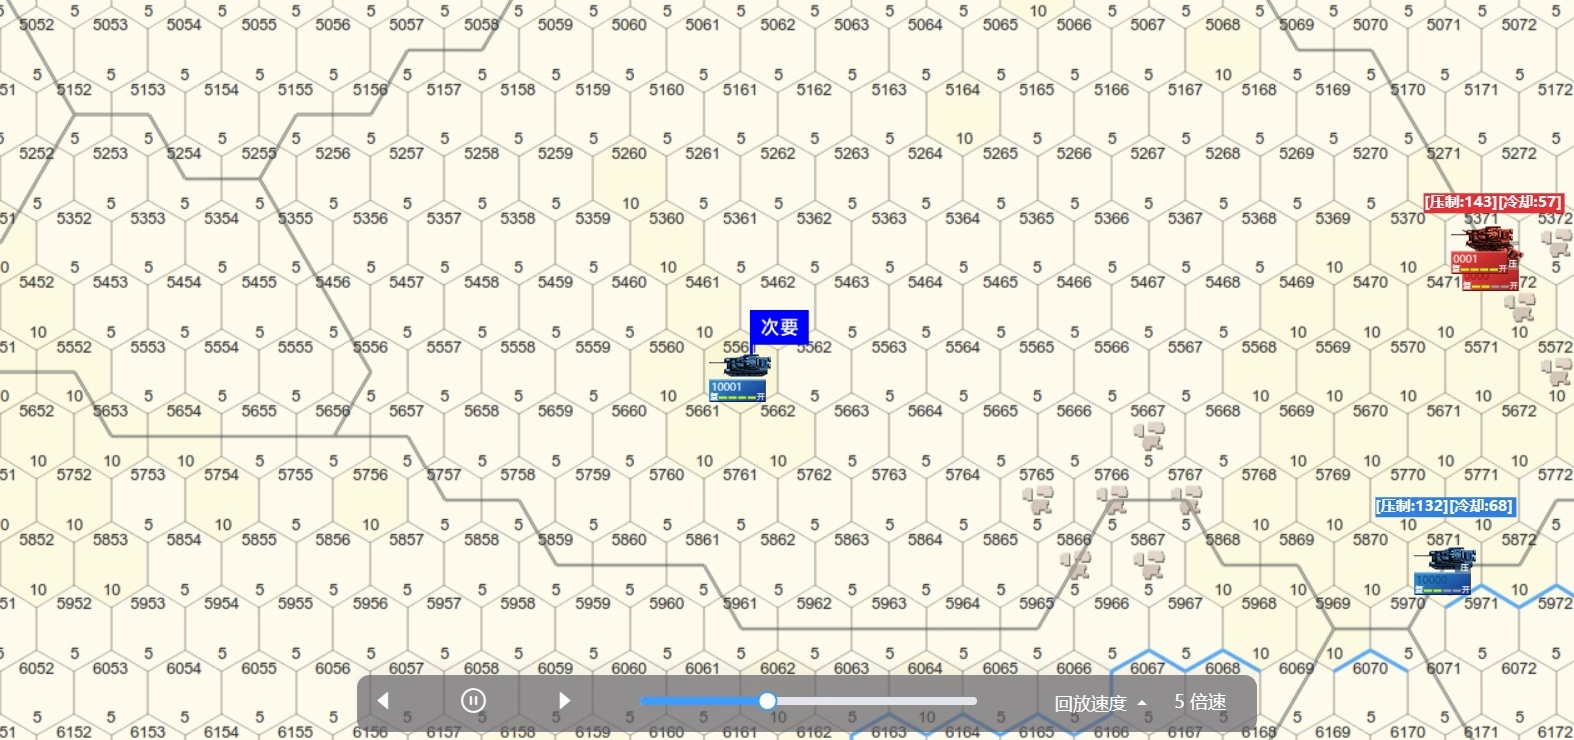blue_tank: (1414, 554, 1481, 598), (716, 347, 766, 403)
red_tank: (1449, 230, 1512, 269), (1468, 262, 1522, 299)
